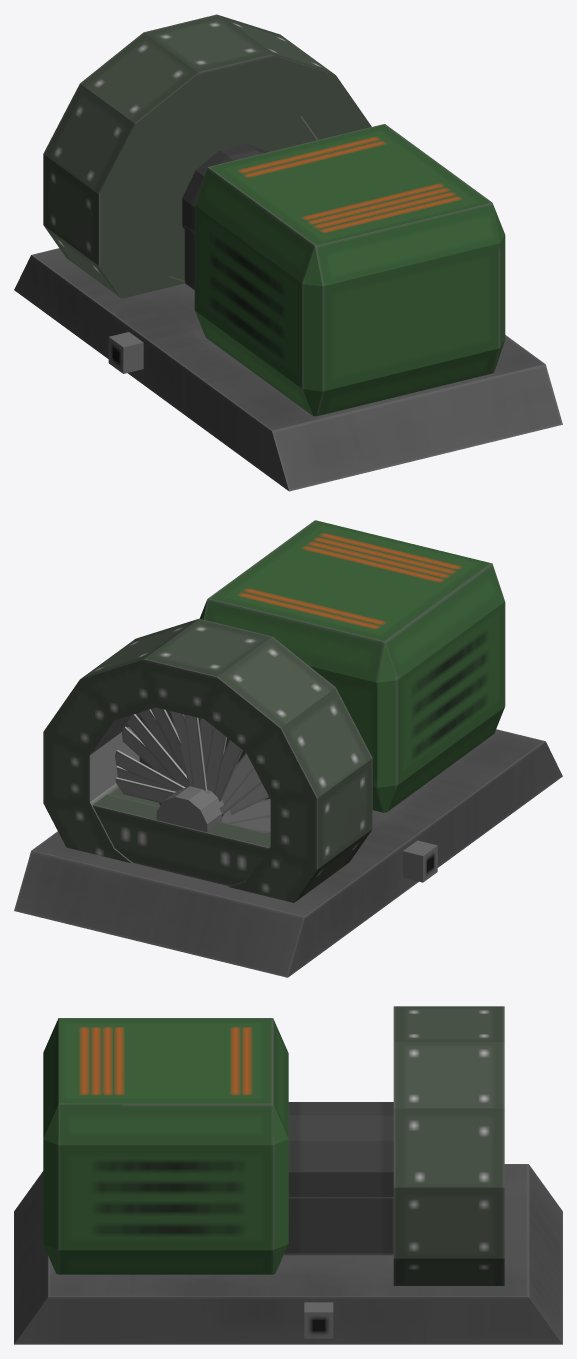
File: industrial_steam_turbine.obj
The picture shows the model from 3 angles, top to bottom: view 1: azimuth 30°, elevation 25°; view 2: azimuth 150°, elevation 25°; view 3: azimuth 270°, elevation 25°; orthographic projection.
Visible parts, largest first — view 1: mesh; view 2: mesh; view 3: mesh.
Part boxes in pixels (box(x1,y1,x2,y2)): mesh: box(14, 14, 562, 491); mesh: box(14, 520, 562, 977); mesh: box(14, 1006, 562, 1344).
Bounding box in the file's own units: 3.88 × 3.12 × 5.88.
